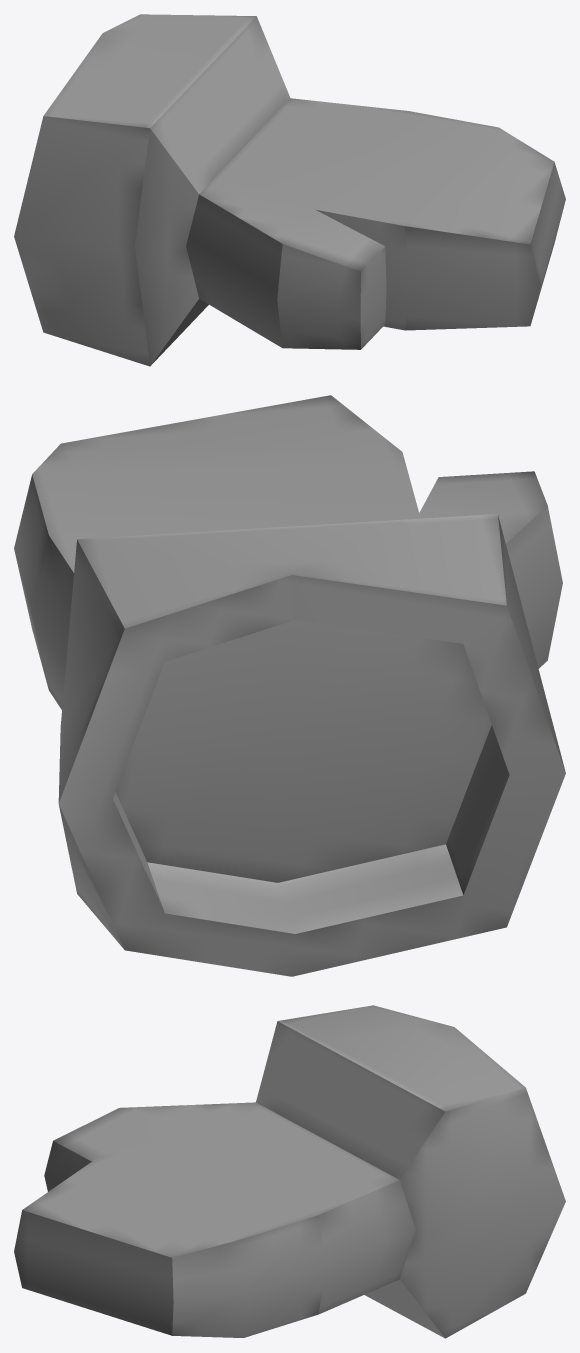
The model's file is Spacesuit_Glove_L.fbx.
3 renders of one model, top to bottom at view 1: azimuth 30°, elevation 25°; view 2: azimuth 150°, elevation 25°; view 3: azimuth 270°, elevation 25°, orthographic. The views are drawn at different scales.
Parts seen in each view (by area): view 1: Spacesuit_Glove_L; view 2: Spacesuit_Glove_L; view 3: Spacesuit_Glove_L.
Part boxes in pixels (x1,y1,x2,y2): Spacesuit_Glove_L: (14, 14, 565, 366); Spacesuit_Glove_L: (14, 395, 565, 976); Spacesuit_Glove_L: (14, 1005, 565, 1338).
Bounding box in the file's own units: 56.59 × 32.31 × 62.8.
